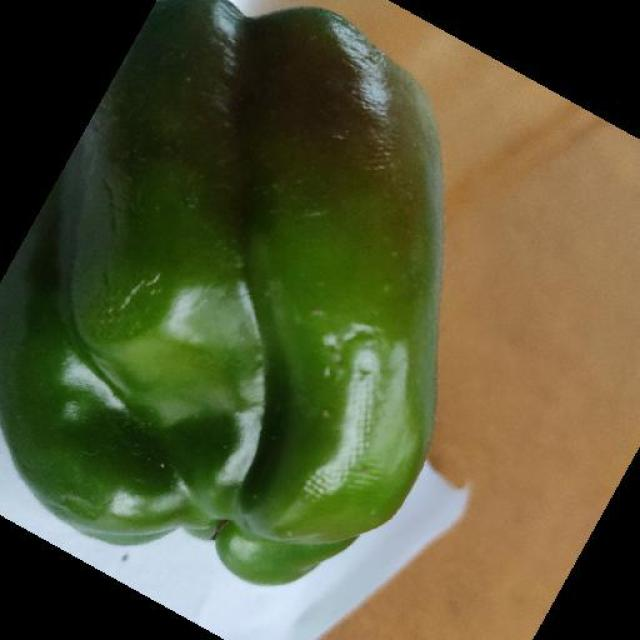Stale_Capsicum: (77, 68, 427, 525)
